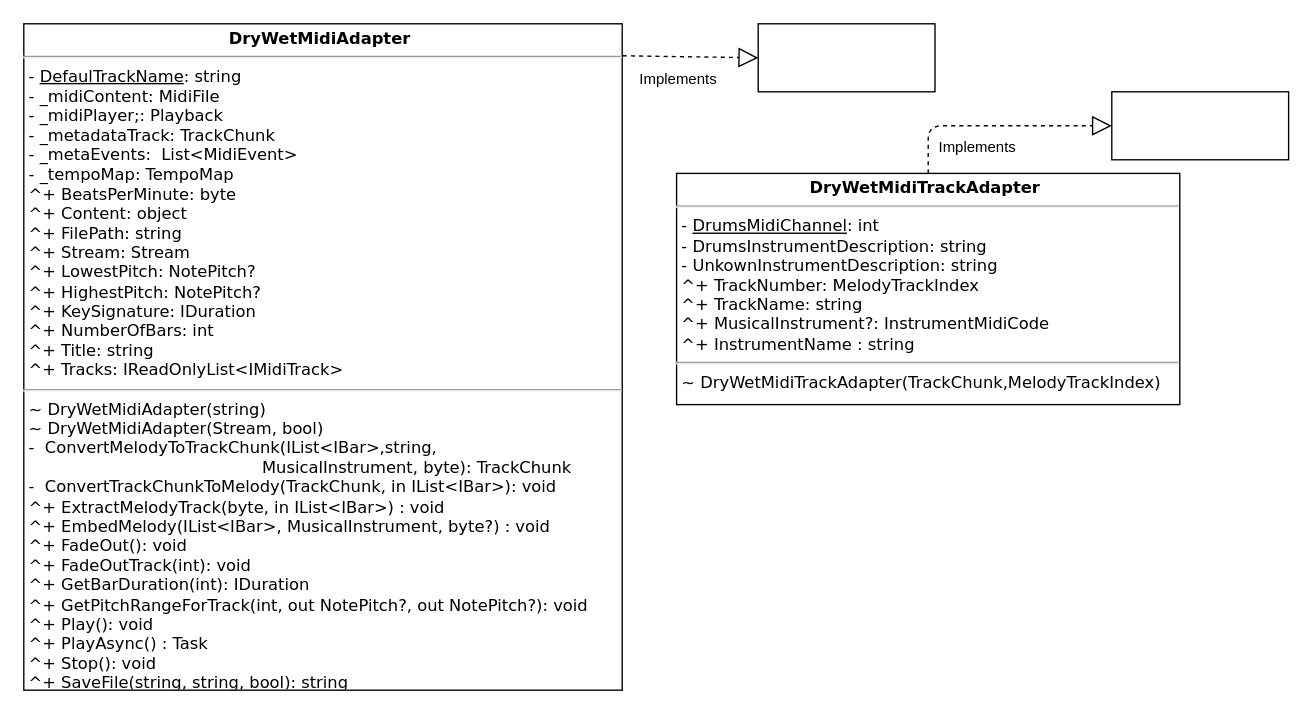
This 1312x715 diagram has some shape labels left out. Here are the shapes that lost their labels. From the top down, the centre of each, then its label:
the point at 846,57: <<Interface>> IMidiFile
the point at 1199,125: <<Interface>> IMidiTrack
